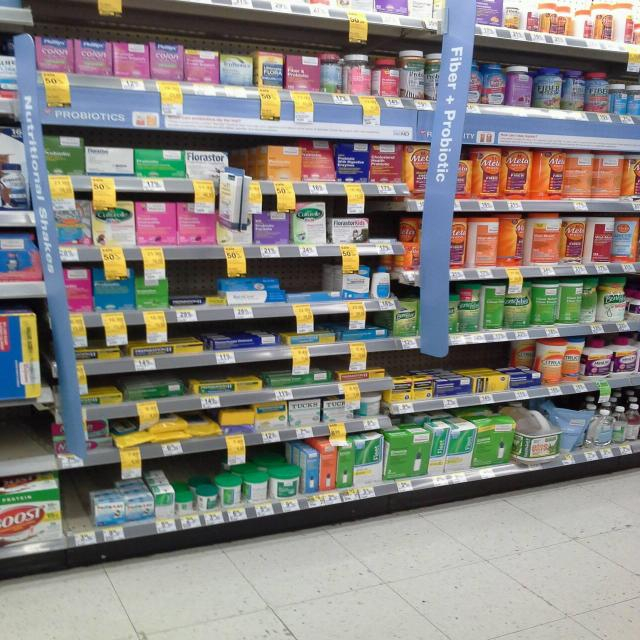void: (3, 409, 50, 454), (174, 262, 217, 294), (285, 260, 319, 290)
